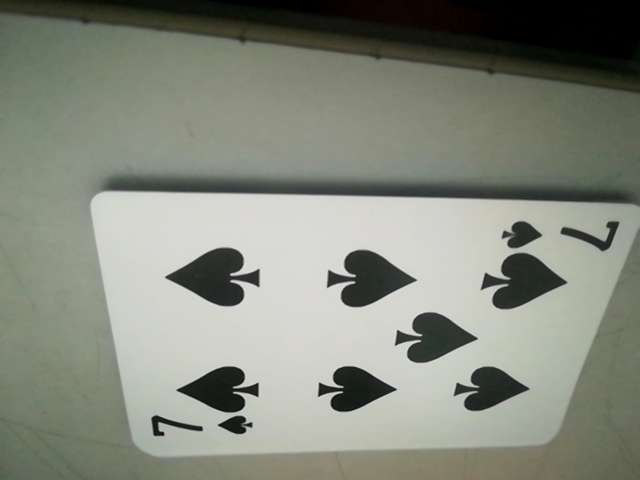ht 7: (497, 210, 627, 256)
